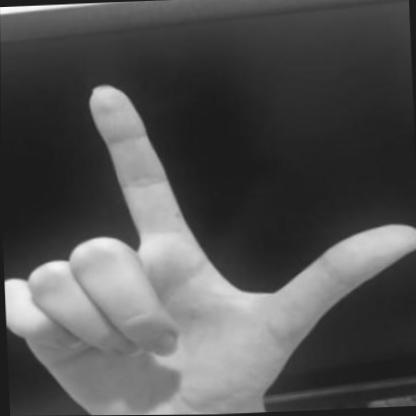L: (0, 41, 416, 416)
